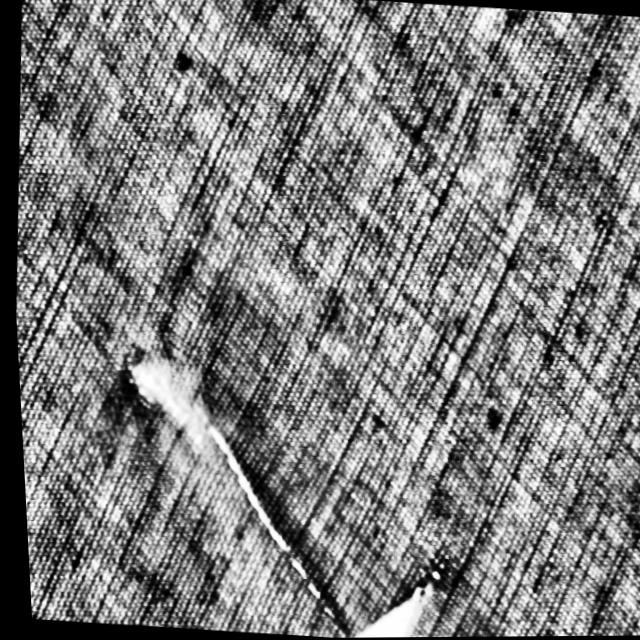Hole: (90, 323, 375, 639), (333, 540, 462, 640)
